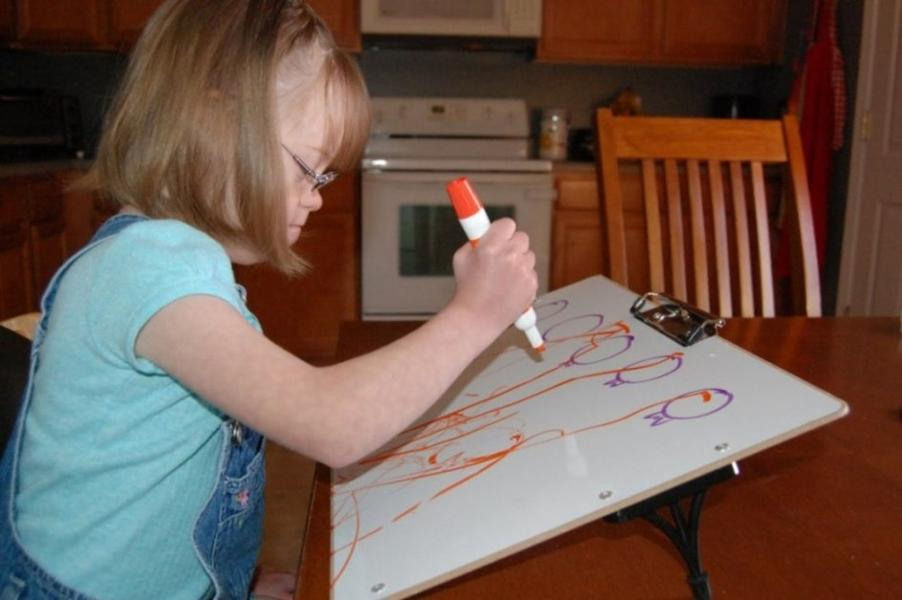person: (10, 5, 542, 600)
